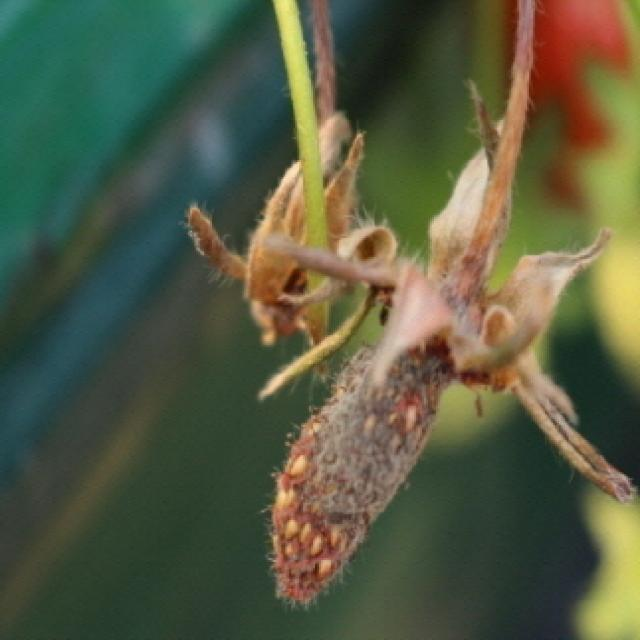Gray Mold: (269, 115, 639, 605)
